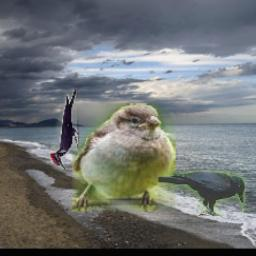Crow: (158, 172, 246, 217)
Sparrow: (72, 104, 176, 213)
Woodpecker: (49, 90, 78, 170)
